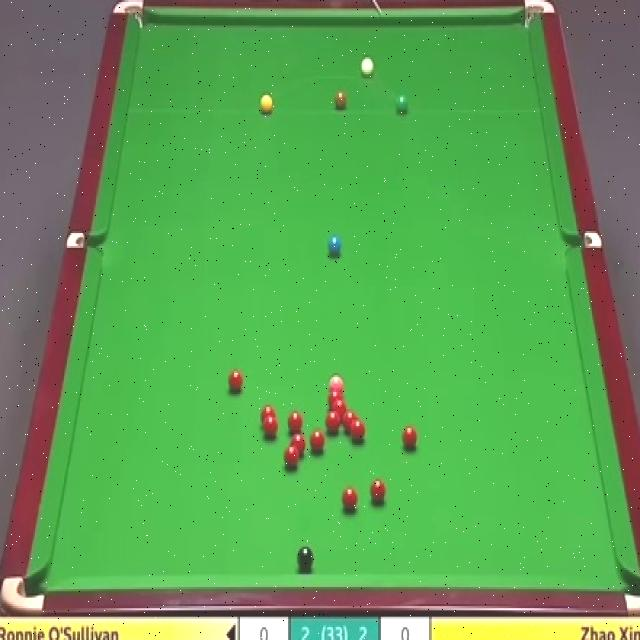black-ball: (296, 543, 314, 572)
blue-ball: (327, 234, 342, 259)
brown-ball: (334, 92, 346, 110)
green-ball: (396, 94, 408, 114)
pink-ball: (328, 372, 343, 388)
red-ball: (285, 444, 302, 472), (369, 479, 386, 503), (402, 426, 419, 450), (264, 418, 280, 442), (342, 486, 358, 509), (351, 418, 366, 442), (228, 368, 243, 392), (310, 430, 326, 452), (260, 404, 277, 424), (292, 434, 308, 453), (288, 414, 303, 434), (324, 412, 341, 429), (329, 398, 348, 412), (344, 413, 359, 430), (326, 389, 344, 400)
white-ball: (359, 53, 376, 81)
yellow-ball: (260, 92, 274, 115)
